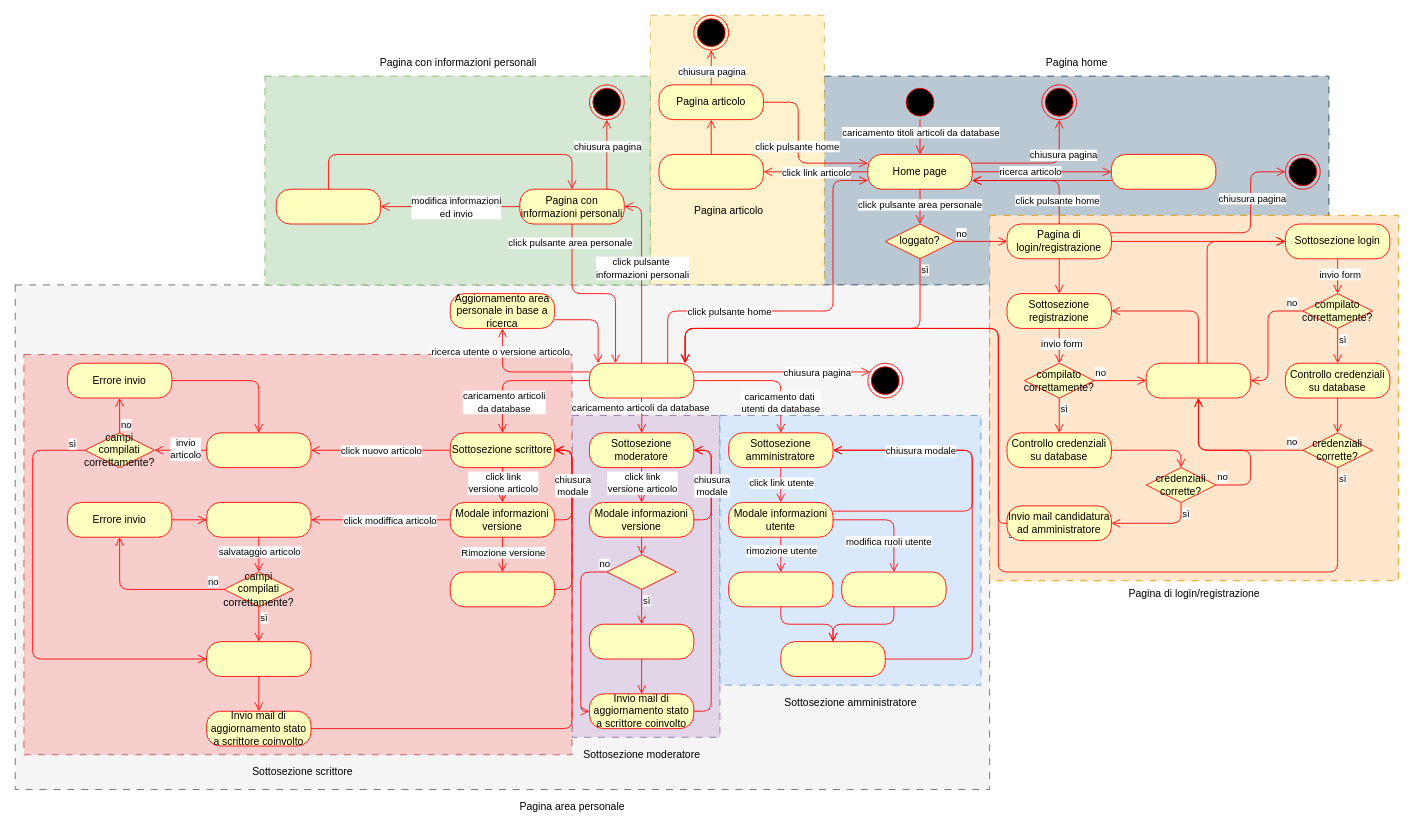
The diagram is 1414 pixels wide and 835 high, and some of its shapes have lost their labels. Here are the shapes that lost their labels. From the top down, the centre of each, then its label:
At point (710, 171): "Caricamento dati articolo da database".
At point (1163, 171): "Modifica home page con risultato ricerca".
At point (328, 206): "Modifica dati utente in database".
At point (641, 380): "Area personale (generata in base ai ruoli)".
At point (1198, 380): "Errore registrazione/login".
At point (258, 450): "Pagina scrittura articolo".
At point (258, 519): "Pagina scrittura articolo (compilata)".
At point (502, 589): "Invio mail di aggiornamento a moderatori".
At point (641, 571): "modifica approvata?".
At point (780, 589): "Rimozione utente in database".
At point (893, 589): "Modifica utente in database".
At point (258, 658): "Aggiunta versione in database".
At point (641, 641): "Modifica versione in database".
At point (832, 658): "Invio mail di aggiornamento stato a utente coinvolto".
